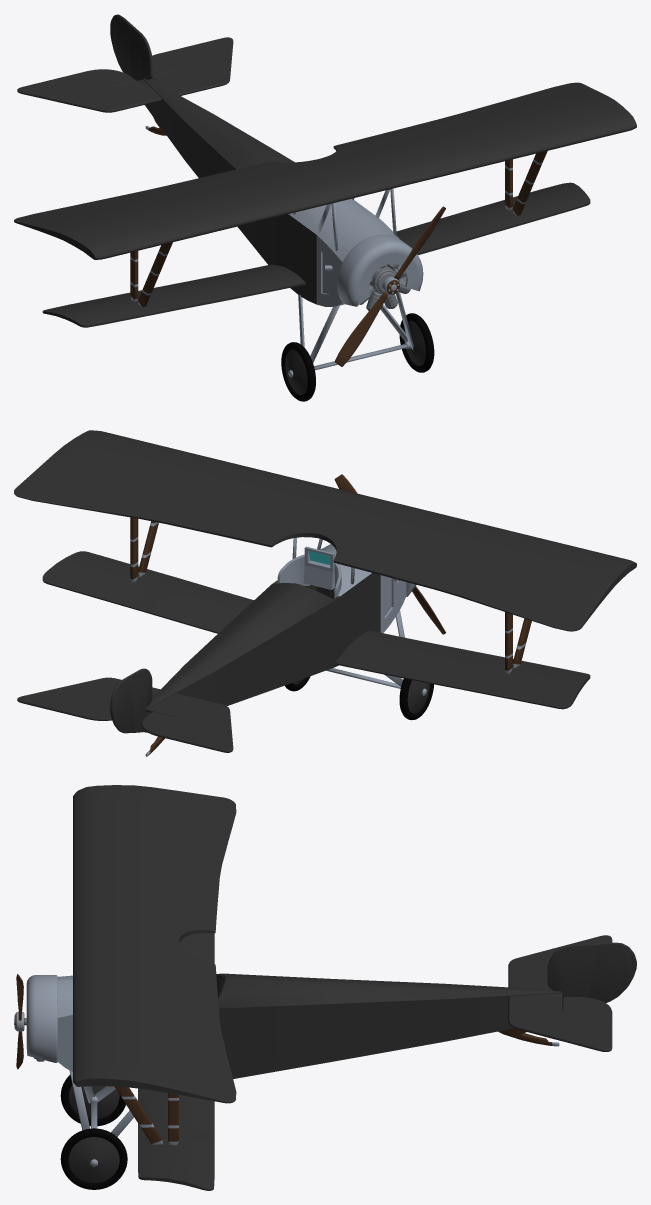
Rendered from NIEUPORT_11_MODEL_V2.fbx.
The picture shows the model from 3 angles, top to bottom: view 1: azimuth 30°, elevation 25°; view 2: azimuth 150°, elevation 25°; view 3: azimuth 270°, elevation 25°; orthographic projection. The views are drawn at different scales.
Visible parts, largest first — view 1: WING_R, WING_L, FULSAGE, LOWER_WING_R, LOWER_WING_L, NOSE, Mid_WING, NOSE_COVER, TAIL_WING_FIN_R, TAIL_FIN, TAIL_WING_R, TAIL_WING_FIN_L (+12 smaller); view 2: WING_R, FULSAGE, WING_L, LOWER_WING_R, LOWER_WING_L, Mid_WING, WING_FIN_R, WING_FIN_L, TAIL_WING_FIN_R, TAIL_FIN, TAIL_WING_FIN_L, NOSE (+10 smaller); view 3: FULSAGE, WING_L, WING_R, LOWER_WING_L, Mid_WING, TAIL_FIN, WING_FIN_L, WING_FIN_R, NOSE_COVER, TAIL_WING_FIN_L, TAIL_WING_L, WHEEL_DISC_L (+8 smaller).
Boxes of the visible parts, bbox=[...] form: WING_R: bbox=[40, 162, 333, 259]; WING_L: bbox=[337, 91, 636, 186]; FULSAGE: bbox=[143, 78, 316, 304]; LOWER_WING_R: bbox=[42, 270, 277, 327]; LOWER_WING_L: bbox=[396, 182, 590, 255]; NOSE: bbox=[288, 198, 406, 306]; Mid_WING: bbox=[269, 145, 401, 202]; NOSE_COVER: bbox=[337, 234, 423, 306]; TAIL_WING_FIN_R: bbox=[17, 69, 136, 101]; TAIL_FIN: bbox=[110, 14, 152, 80]; TAIL_WING_R: bbox=[58, 81, 161, 112]; TAIL_WING_FIN_L: bbox=[152, 37, 233, 76]; WING_R: bbox=[336, 504, 636, 605]; FULSAGE: bbox=[144, 573, 380, 732]; WING_L: bbox=[40, 430, 331, 546]; LOWER_WING_R: bbox=[363, 636, 590, 709]; LOWER_WING_L: bbox=[42, 551, 253, 633]; Mid_WING: bbox=[268, 487, 398, 562]; WING_FIN_R: bbox=[459, 573, 598, 631]; WING_FIN_L: bbox=[14, 466, 158, 518]; TAIL_WING_FIN_R: bbox=[141, 711, 233, 752]; TAIL_FIN: bbox=[110, 668, 152, 733]; TAIL_WING_FIN_L: bbox=[17, 688, 111, 720]; NOSE: bbox=[276, 544, 406, 632]; FULSAGE: bbox=[129, 973, 562, 1088]; WING_L: bbox=[73, 949, 221, 1094]; WING_R: bbox=[73, 785, 221, 929]; LOWER_WING_L: bbox=[138, 1088, 214, 1190]; Mid_WING: bbox=[73, 913, 215, 965]; TAIL_FIN: bbox=[547, 942, 636, 1002]; WING_FIN_L: bbox=[179, 1026, 236, 1103]; WING_FIN_R: bbox=[179, 791, 236, 864]; NOSE_COVER: bbox=[26, 975, 57, 1062]; TAIL_WING_FIN_L: bbox=[562, 997, 612, 1051]; TAIL_WING_L: bbox=[508, 996, 562, 1041]; WHEEL_DISC_L: bbox=[68, 1137, 119, 1183].
Bounding box in the file's own units: 719 × 249 × 623.
